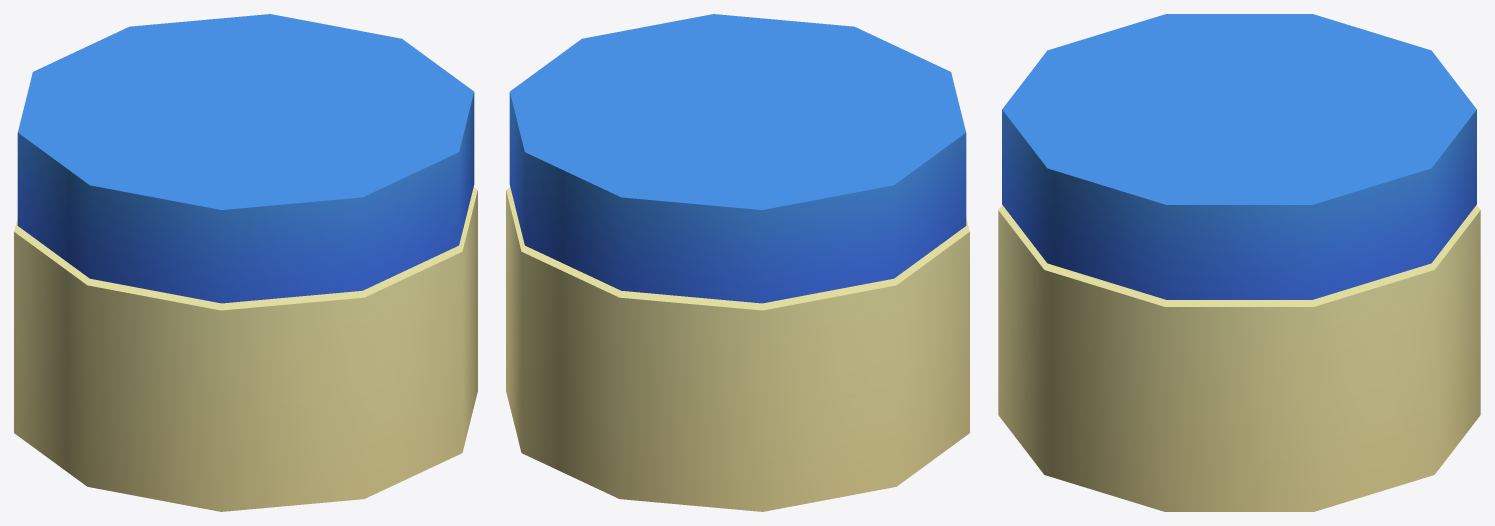
Rendered from cream_jar_yellow.fbx.
The picture shows the model from 3 angles, left to right: view 1: azimuth 30°, elevation 25°; view 2: azimuth 150°, elevation 25°; view 3: azimuth 270°, elevation 25°; orthographic projection.
Parts seen in each view (by area): view 1: cream_jar_yellow; view 2: cream_jar_yellow; view 3: cream_jar_yellow.
Boxes of the visible parts, left/top/right/bottom form: cream_jar_yellow: left=14, top=14, right=477, bottom=511; cream_jar_yellow: left=506, top=14, right=969, bottom=511; cream_jar_yellow: left=998, top=14, right=1480, bottom=511.
Bounding box in the file's own units: 127 × 93.48 × 134.
